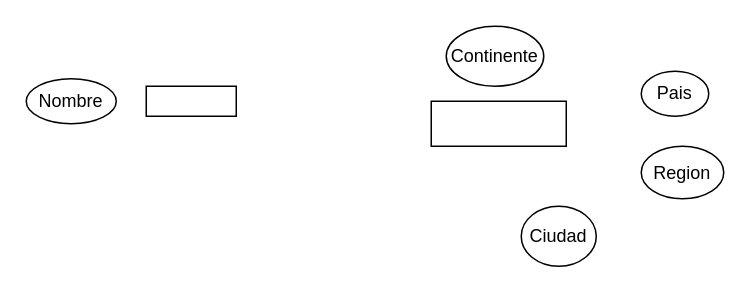
This 750x293 diagram has some shape labels left out. The shapes that lost their labels are listed below. From the top down, each one's centre as x and y in pixels, then its label:
At [190,100]: "Prensa".
At [498,123]: "Ubicacion geografica".
